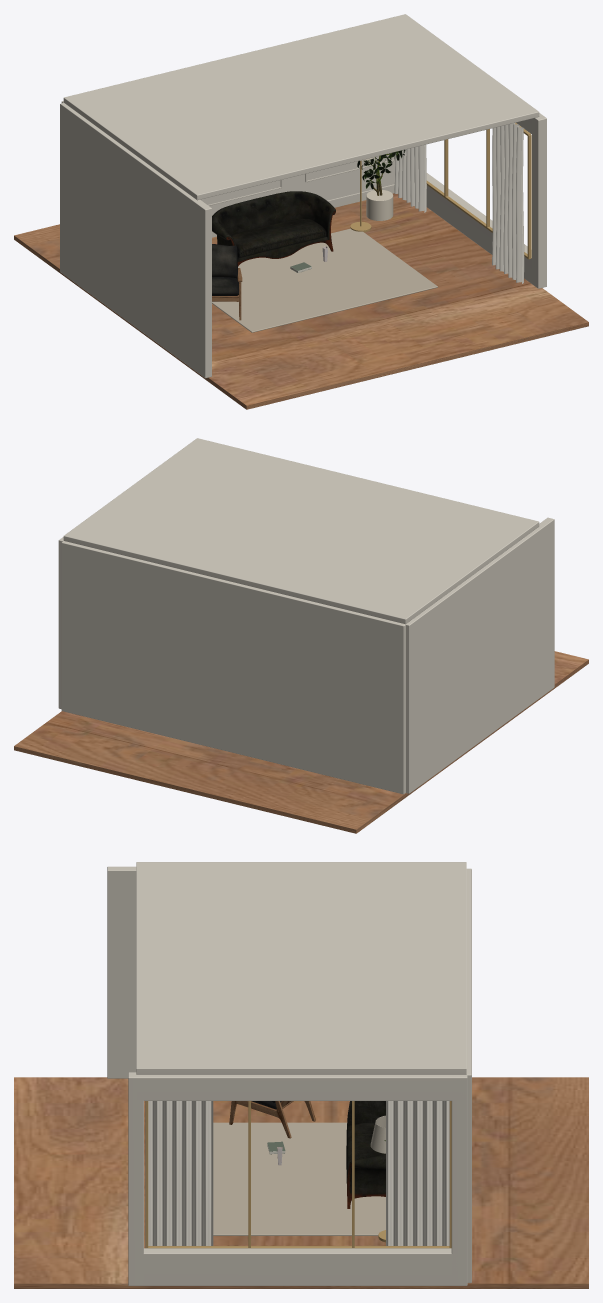
File: living-interior.glb
3 renders of one model, top to bottom at view 1: azimuth 30°, elevation 25°; view 2: azimuth 150°, elevation 25°; view 3: azimuth 270°, elevation 25°, orthographic. The views are drawn at different scales.
Visible parts, largest first — view 1: Ceiling, Solid oak floor, Left return, Woven area rug, Pleated curtain, sofa_02_Base, Back plaster wall, Window wall pier, Window wall sill, sofa_02_Seat, Pleated curtain.001, modern_arm_chair_01 (+3 smaller); view 2: Back plaster wall, Ceiling, Left return, Solid oak floor, Window wall pier.001; view 3: Ceiling, Solid oak floor, Woven area rug, Window wall sill, Pleated curtain, Pleated curtain.001, Window wall lintel, Left return, Window wall pier.001, Window wall pier, Back plaster wall, sofa_02_Base (+4 smaller).
Part boxes in pixels (x1,y1,x2,y2): Ceiling: (63, 14, 539, 200); Solid oak floor: (14, 193, 588, 409); Left return: (60, 103, 211, 378); Woven area rug: (212, 228, 437, 332); Pleated curtain: (492, 123, 524, 283); sofa_02_Base: (212, 191, 335, 266); Back plaster wall: (61, 101, 395, 215); Window wall pier: (532, 114, 546, 288); Window wall sill: (426, 173, 534, 283); sofa_02_Seat: (231, 218, 326, 257); Pleated curtain.001: (394, 144, 426, 212); modern_arm_chair_01: (212, 244, 242, 320); Back plaster wall: (61, 541, 405, 794); Ceiling: (63, 438, 539, 624); Left return: (405, 517, 554, 793); Solid oak floor: (14, 651, 588, 833); Window wall pier.001: (58, 537, 63, 709); Ceiling: (136, 862, 466, 1074); Solid oak floor: (14, 1077, 588, 1288); Woven area rug: (213, 1122, 385, 1235); Window wall sill: (137, 1248, 465, 1285); Pleated curtain: (145, 1101, 213, 1247); Pleated curtain.001: (386, 1101, 449, 1245); Window wall lintel: (137, 1074, 465, 1100); Left return: (107, 866, 136, 1078); Window wall pier.001: (451, 1074, 467, 1285); Window wall pier: (128, 1072, 143, 1285); Back plaster wall: (466, 868, 471, 1282); sofa_02_Base: (347, 1101, 385, 1208).
Bounding box in the file's own units: 6.96 × 3.39 × 8.
Materials: 17 (7 with a texture image).
